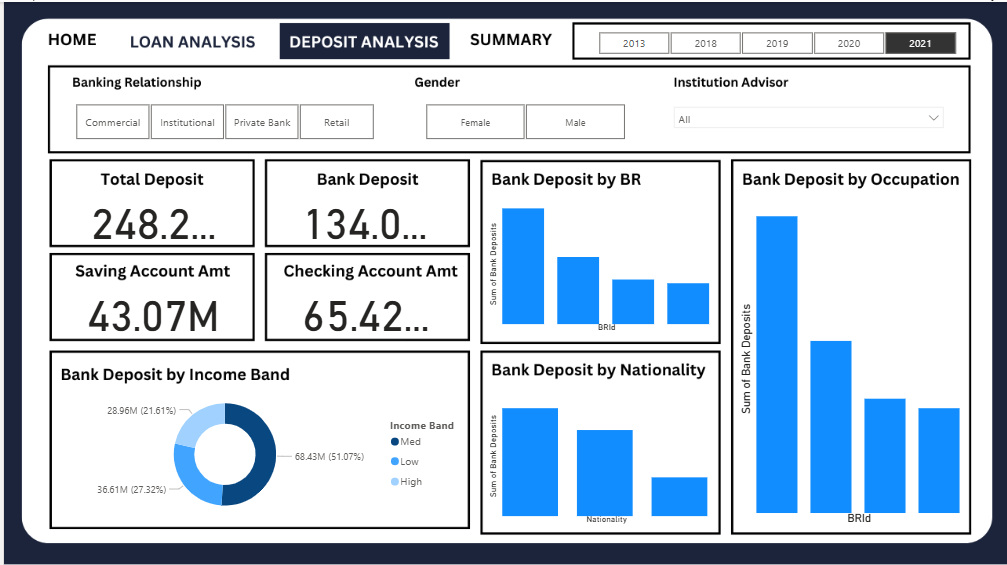

Layout of this report page (visuals, bound fields, positions):
{"tool":"powerbi","page":{"name":"Deposit Analysis","canvas":[1280,720],"ordinal":2},"visuals":[{"type":"slicer","fields":{"Values":["banking_case customer.Year of Joining"]},"box":[733.3,32.2,504.1,34.9],"z":0},{"type":"actionButton","box":[36.4,31.7,99.7,39.6],"z":1000},{"type":"actionButton","box":[348.2,31.7,221.6,39.6],"z":2000},{"type":"actionButton","box":[587.1,31.7,123.4,39.6],"z":3000},{"type":"card","fields":{"Values":["banking_case customer.Total Deposit"]},"box":[100.9,243.7,179.5,65.5],"z":4000},{"type":"card","fields":{"Values":["Sum(banking_case customer.Bank Deposits)"]},"box":[369.5,243.7,179.5,65.5],"z":5000},{"type":"card","fields":{"Values":["Sum(banking_case customer.Saving Accounts)"]},"box":[100.9,360.4,179.5,65.5],"z":6000},{"type":"card","fields":{"Values":["Sum(banking_case customer.Checking Accounts)"]},"box":[370.8,360.4,179.5,65.5],"z":7000},{"type":"donutChart","fields":{"Category":["banking_case customer.Income Band"],"Y":["Sum(banking_case customer.Bank Deposits)"]},"box":[66.8,488.8,530.7,176.9],"z":8000},{"type":"clusteredColumnChart","fields":{"Category":["banking_case customer.BRId"],"Y":["Sum(banking_case customer.Bank Deposits)"]},"box":[613.3,243.7,293.5,182.1],"z":9000},{"type":"clusteredColumnChart","fields":{"Category":["banking_case customer.Nationality"],"Y":["Sum(banking_case customer.Bank Deposits)"]},"box":[613.3,488.8,293.5,182.1],"z":10000},{"type":"slicer","fields":{"Values":["banking_case customer.BRId"]},"box":[66.8,123.2,428.5,57.7],"z":11000},{"type":"slicer","fields":{"Values":["banking_case customer.GenderId"]},"box":[512.4,123.2,302.7,57.7],"z":12000},{"type":"slicer","fields":{"Values":["banking_case customer.IAId"]},"box":[843.9,123.2,364.3,57.7],"z":13000},{"type":"clusteredColumnChart","fields":{"Category":["banking_case customer.BRId"],"Y":["Sum(banking_case customer.Bank Deposits)"]},"box":[933.7,245.3,292.8,425.7],"z":14000},{"type":"actionButton","box":[136.3,27.5,196.6,40.6],"z":15000}]}

Visuals, with their boxes in screenshot pixels (x1, y1, x2, y2), scaled from the page's 1280x720 canvas onto the 1007x565 screenshot:
slicer - banking_case customer.Year of Joining: x1=577, y1=25, x2=973, y2=53
actionButton: x1=29, y1=25, x2=107, y2=56
actionButton: x1=274, y1=25, x2=448, y2=56
actionButton: x1=462, y1=25, x2=559, y2=56
card - banking_case customer.Total Deposit: x1=79, y1=191, x2=221, y2=243
card - Sum(banking_case customer.Bank Deposits): x1=291, y1=191, x2=432, y2=243
card - Sum(banking_case customer.Saving Accounts): x1=79, y1=283, x2=221, y2=334
card - Sum(banking_case customer.Checking Accounts): x1=292, y1=283, x2=433, y2=334
donutChart - banking_case customer.Income Band x Sum(banking_case customer.Bank Deposits): x1=53, y1=384, x2=470, y2=522
clusteredColumnChart - banking_case customer.BRId x Sum(banking_case customer.Bank Deposits): x1=482, y1=191, x2=713, y2=334
clusteredColumnChart - banking_case customer.Nationality x Sum(banking_case customer.Bank Deposits): x1=482, y1=384, x2=713, y2=526
slicer - banking_case customer.BRId: x1=53, y1=97, x2=390, y2=142
slicer - banking_case customer.GenderId: x1=403, y1=97, x2=641, y2=142
slicer - banking_case customer.IAId: x1=664, y1=97, x2=951, y2=142
clusteredColumnChart - banking_case customer.BRId x Sum(banking_case customer.Bank Deposits): x1=735, y1=192, x2=965, y2=527
actionButton: x1=107, y1=22, x2=262, y2=53
